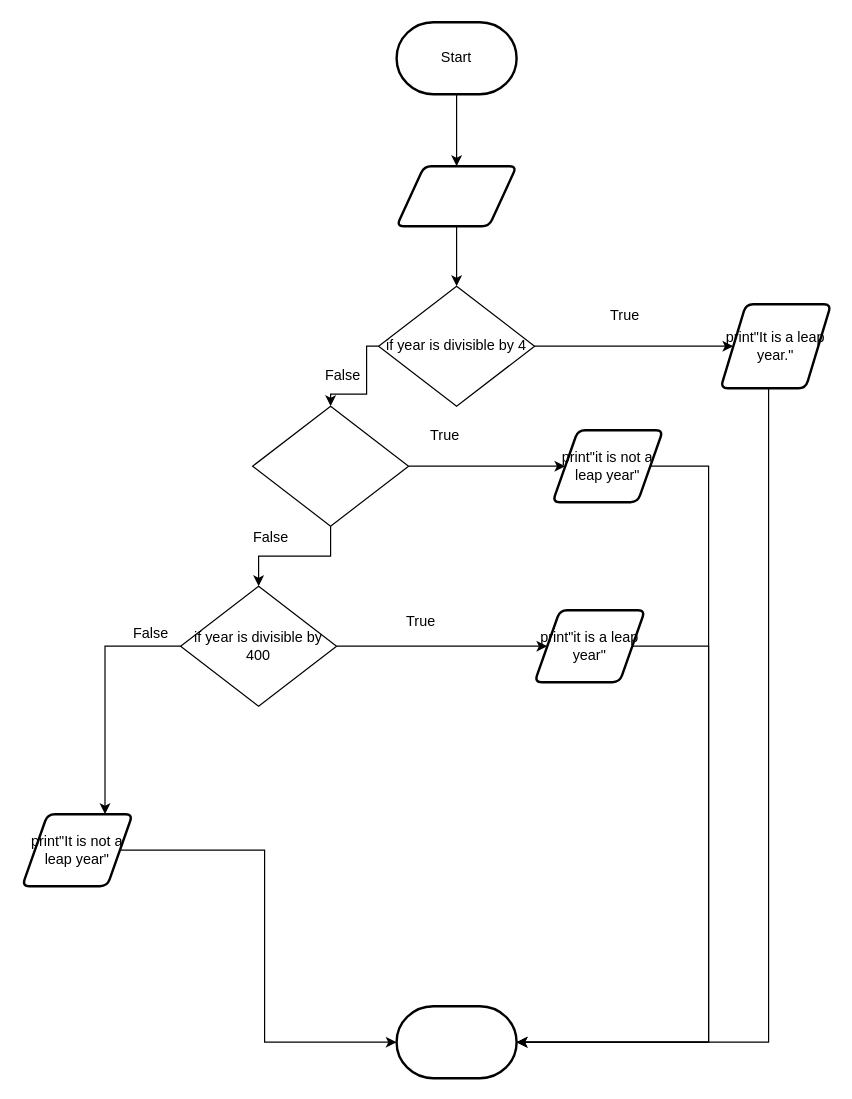
The diagram is 852 pixels wide and 1099 high, and some of its shapes have lost their labels. Each missing label, with the box of its shape:
Get year: (395, 164, 517, 227)
if year is divisible by 100: (251, 405, 409, 526)
Stop: (395, 1004, 517, 1079)
